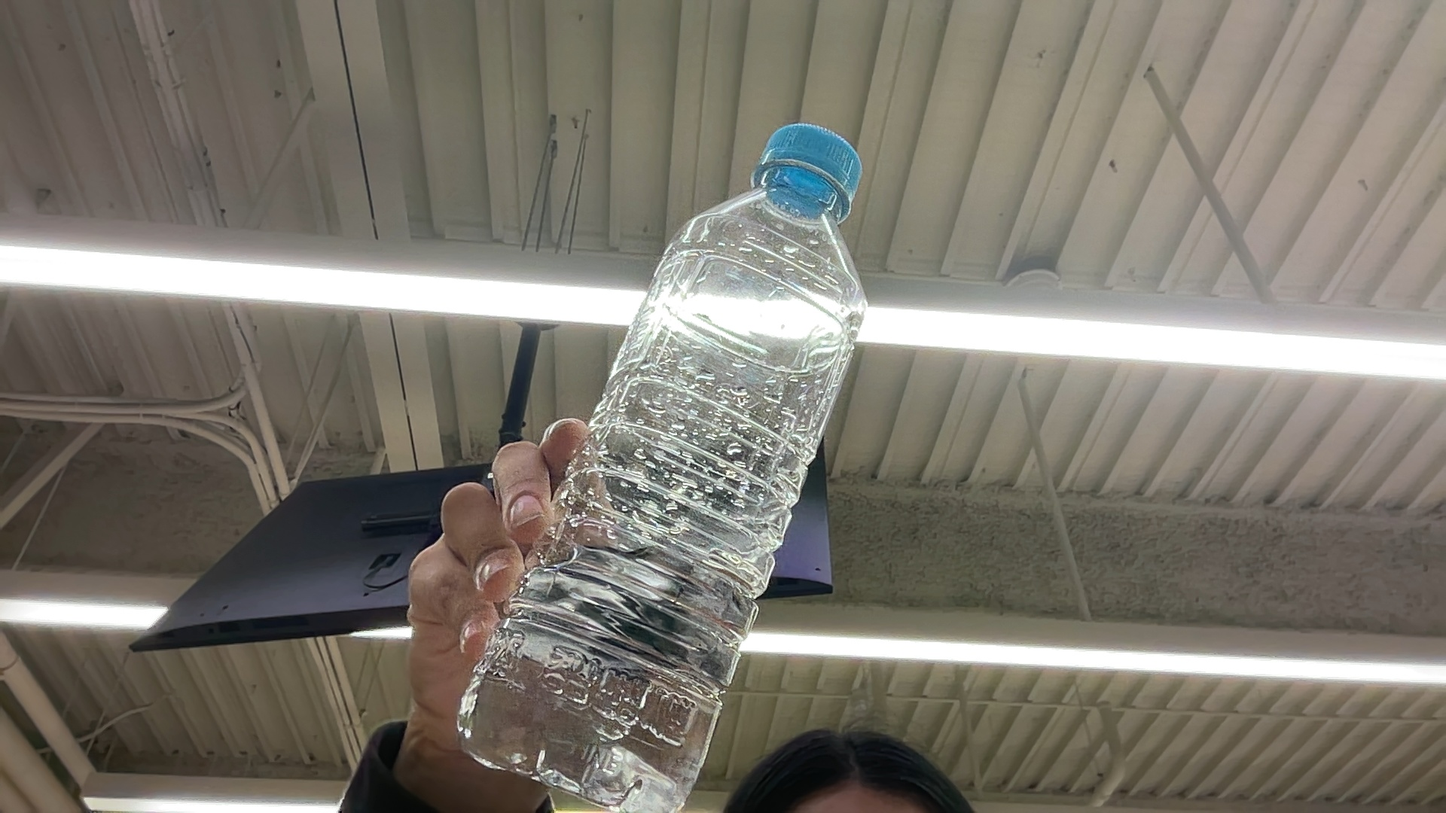Plastic: (643, 121, 869, 329)
